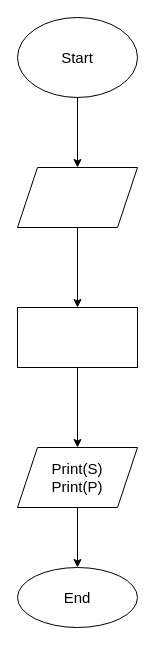
Some shapes in this 155 by 645 pixel diagram are drawn without their labels. The shapes that lost their labels are listed below. From the top down, each one's box as (x1, y1, x2, y2) in pixels, then its label:
(16, 166, 138, 228): let a,b let S,P
(16, 306, 138, 368): S=a*b P=2(a+b)
